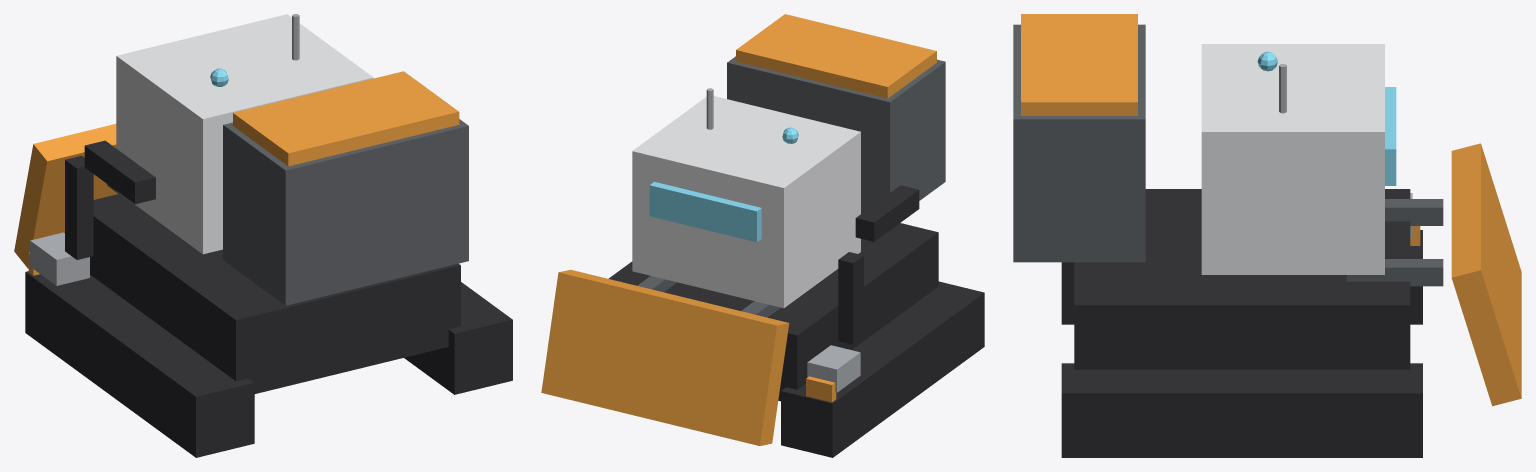
Rendered from SM_Unit_HarvesterBot.glb.
3 views of the same model, side by side, from view 1: azimuth 30°, elevation 25°; view 2: azimuth 150°, elevation 25°; view 3: azimuth 270°, elevation 25° (orthographic). The views are drawn at different scales.
Visible parts, largest first — view 1: SM_Unit_HarvesterBot; view 2: SM_Unit_HarvesterBot; view 3: SM_Unit_HarvesterBot.
Boxes of the visible parts, x1=… form: SM_Unit_HarvesterBot: x1=14, y1=14, x2=512, y2=457; SM_Unit_HarvesterBot: x1=541, y1=14, x2=984, y2=457; SM_Unit_HarvesterBot: x1=1013, y1=14, x2=1521, y2=457.
Size of the model in its own units: 1.52 by 1.45 by 2.
